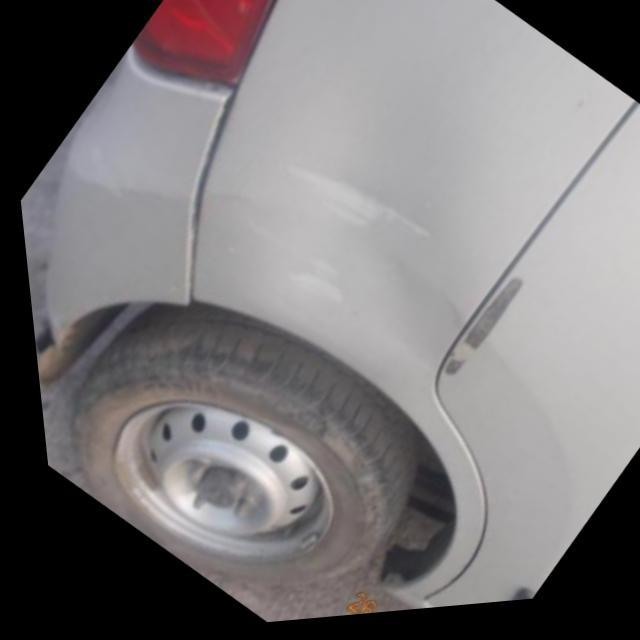dent: (287, 177, 427, 259), (283, 273, 340, 310)
rub: (449, 282, 520, 368), (437, 365, 460, 388)
